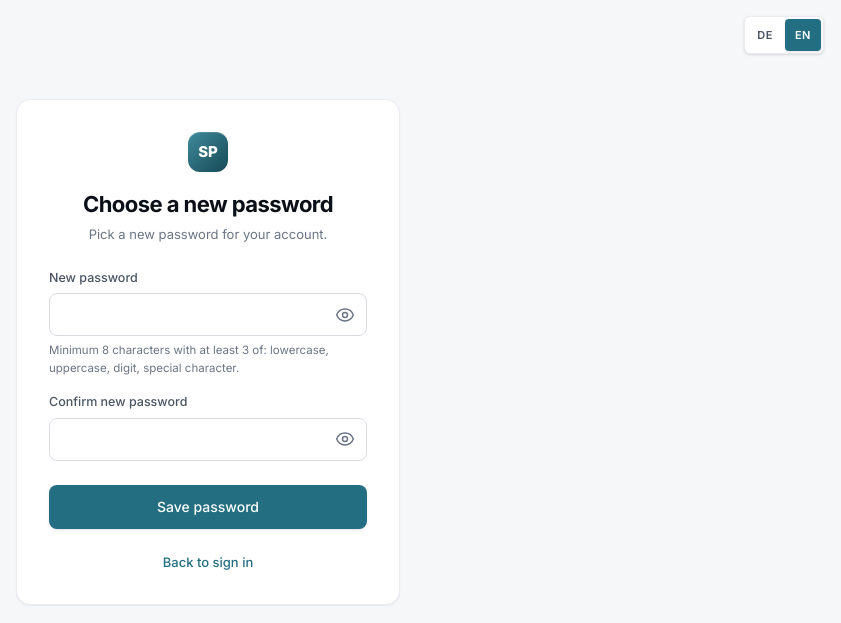
it: ResetPasswordPage › resets the password with the token and shows the success card
In the password field labelled "New password": [208, 315] box [49, 293, 367, 336], type "Test1234!"
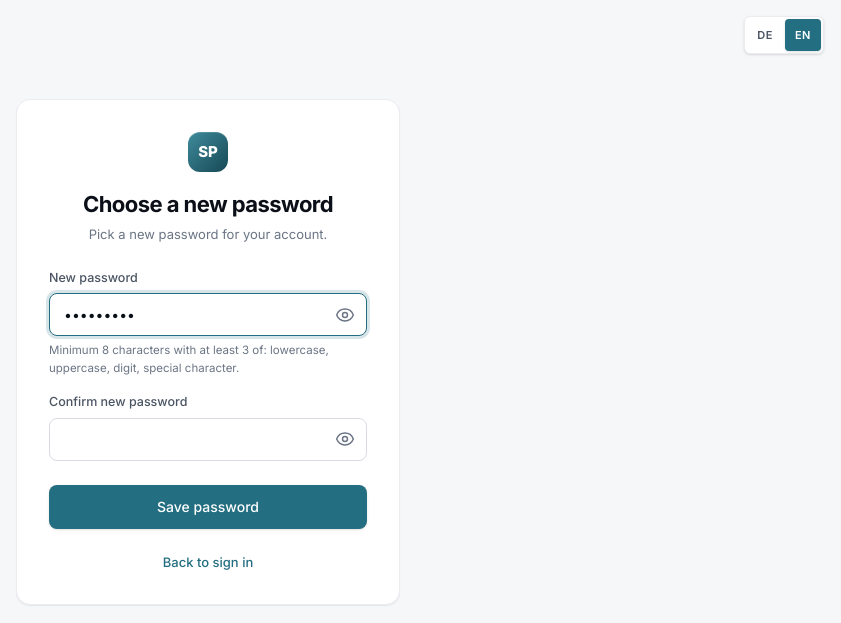
In the password field labelled "Confirm new password": [208, 439] box [49, 418, 367, 460], type "Test1234!"
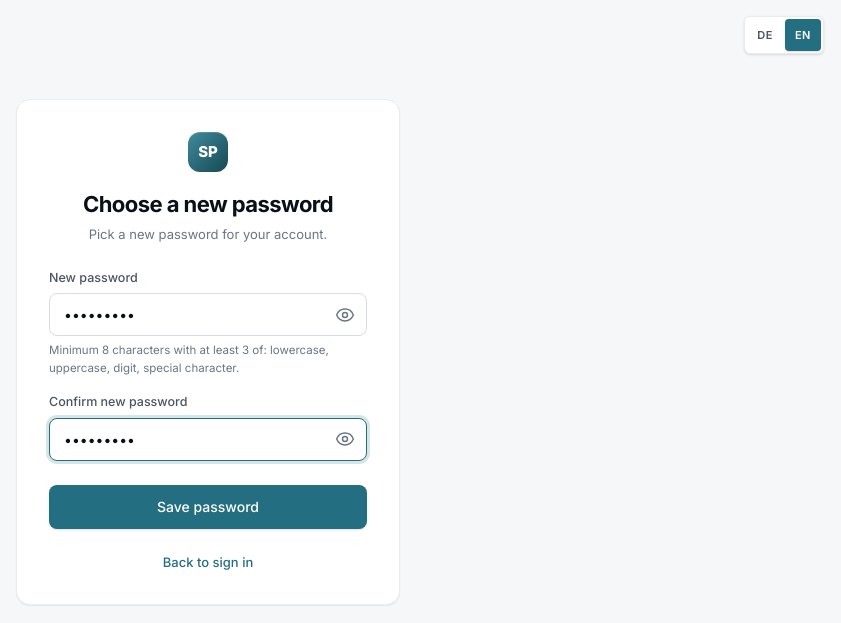
Click the button "Save password": [208, 506] box [49, 484, 367, 528]
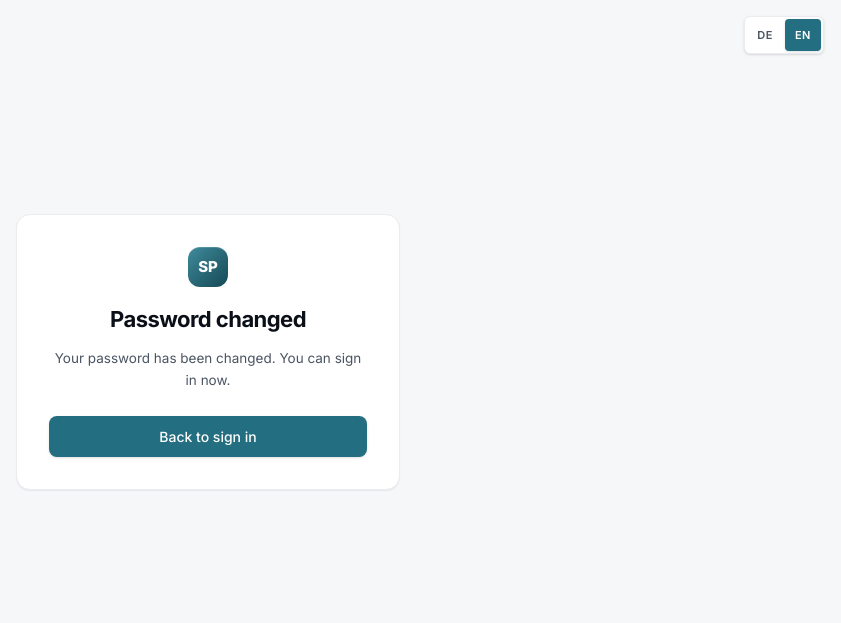
Expected: the heading "Password changed" is shown, [110, 306, 306, 332]
